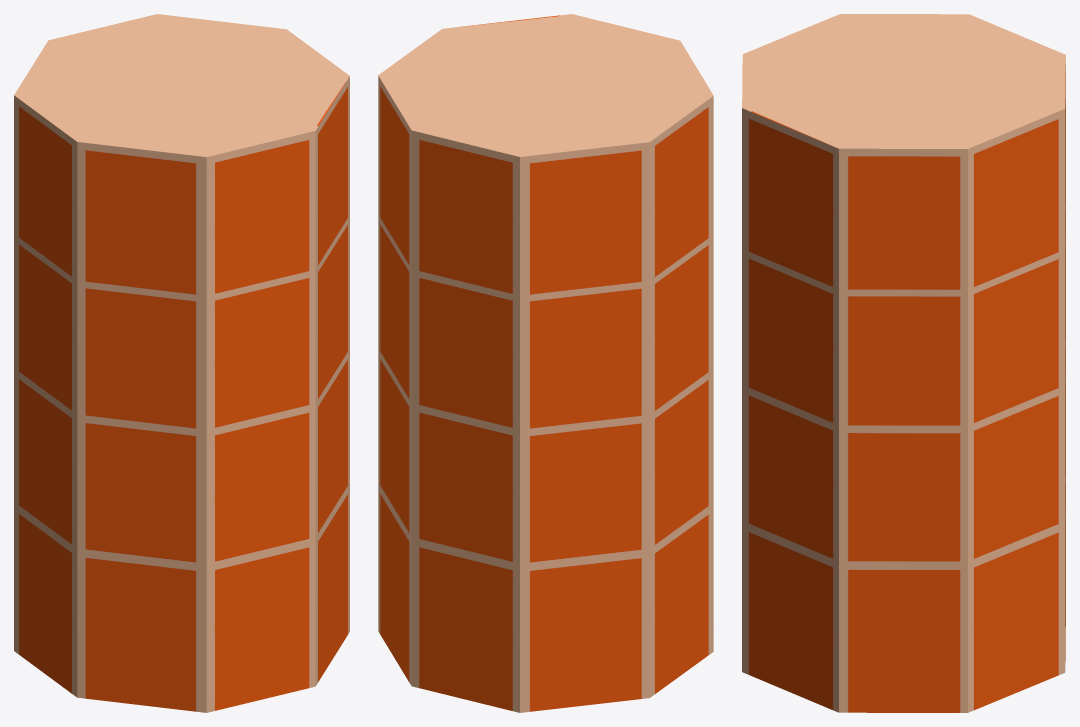
Rendered from düz_bina.fbx.
3 views of the same model, side by side, from view 1: azimuth 30°, elevation 25°; view 2: azimuth 150°, elevation 25°; view 3: azimuth 270°, elevation 25° (orthographic).
Parts seen in each view (by area): view 1: Cube.004; view 2: Cube.004; view 3: Cube.004.
Boxes of the visible parts, x1=… form: Cube.004: x1=14, y1=14, x2=349, y2=712; Cube.004: x1=378, y1=14, x2=713, y2=712; Cube.004: x1=742, y1=14, x2=1065, y2=712.
Size of the model in its own units: 199 by 388 by 202.
